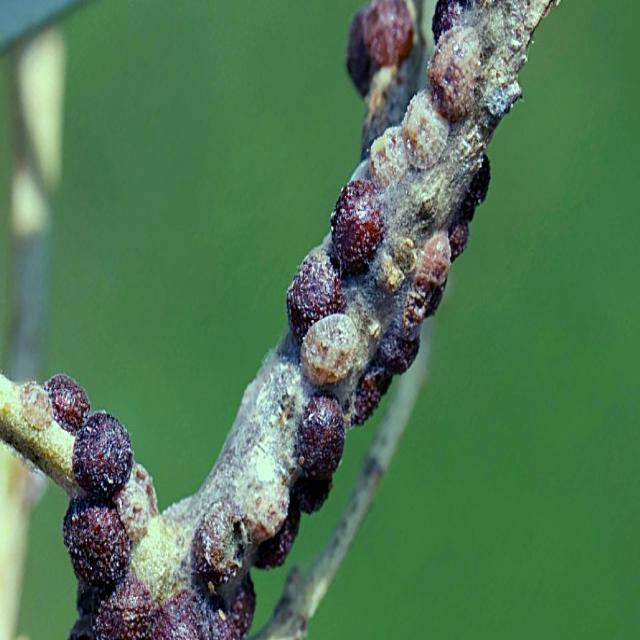Black Scale: (253, 0, 551, 568), (43, 374, 208, 639), (192, 497, 275, 639), (346, 0, 416, 96)
